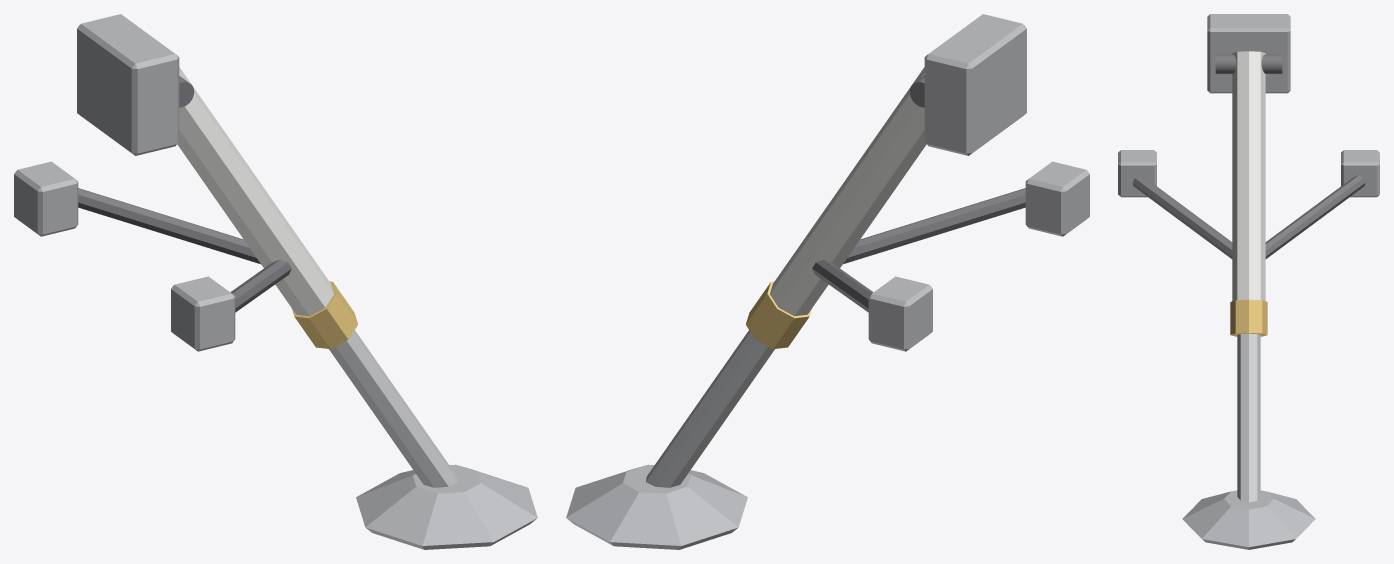
Rendered from ax_gear_04_lander_leg_s_deployed.glb.
3 renders of one model, left to right at view 1: azimuth 30°, elevation 25°; view 2: azimuth 150°, elevation 25°; view 3: azimuth 270°, elevation 25°, orthographic. The views are drawn at different scales.
Parts seen in each view (by area): view 1: leg_hinge_block, leg_footpad, leg_outer_tube, leg_inner_tube, leg_secondary_struts, leg_crush_band; view 2: leg_hinge_block, leg_footpad, leg_outer_tube, leg_inner_tube, leg_secondary_struts, leg_crush_band; view 3: leg_outer_tube, leg_hinge_block, leg_footpad, leg_inner_tube, leg_secondary_struts, leg_crush_band, leg_hinge_pin.
Boxes of the visible parts, x1=… form: leg_hinge_block: x1=14, y1=14, x2=235, y2=351; leg_footpad: x1=356, y1=464, x2=537, y2=549; leg_outer_tube: x1=177, y1=67, x2=333, y2=316; leg_inner_tube: x1=329, y1=330, x2=457, y2=487; leg_secondary_struts: x1=78, y1=188, x2=291, y2=312; leg_crush_band: x1=292, y1=281, x2=357, y2=349; leg_hinge_block: x1=868, y1=14, x2=1089, y2=351; leg_footpad: x1=566, y1=464, x2=747, y2=549; leg_outer_tube: x1=770, y1=67, x2=926, y2=316; leg_inner_tube: x1=646, y1=330, x2=774, y2=487; leg_secondary_struts: x1=812, y1=188, x2=1025, y2=312; leg_crush_band: x1=746, y1=281, x2=811, y2=349; leg_outer_tube: x1=1232, y1=51, x2=1265, y2=301; leg_hinge_block: x1=1118, y1=14, x2=1379, y2=197; leg_footpad: x1=1182, y1=490, x2=1315, y2=549; leg_inner_tube: x1=1237, y1=333, x2=1260, y2=502; leg_secondary_struts: x1=1132, y1=175, x2=1365, y2=258; leg_crush_band: x1=1230, y1=299, x2=1267, y2=336; leg_hinge_pin: x1=1215, y1=54, x2=1282, y2=73.
Bounding box in the file's own units: 1.25 × 1.56 × 0.94.
